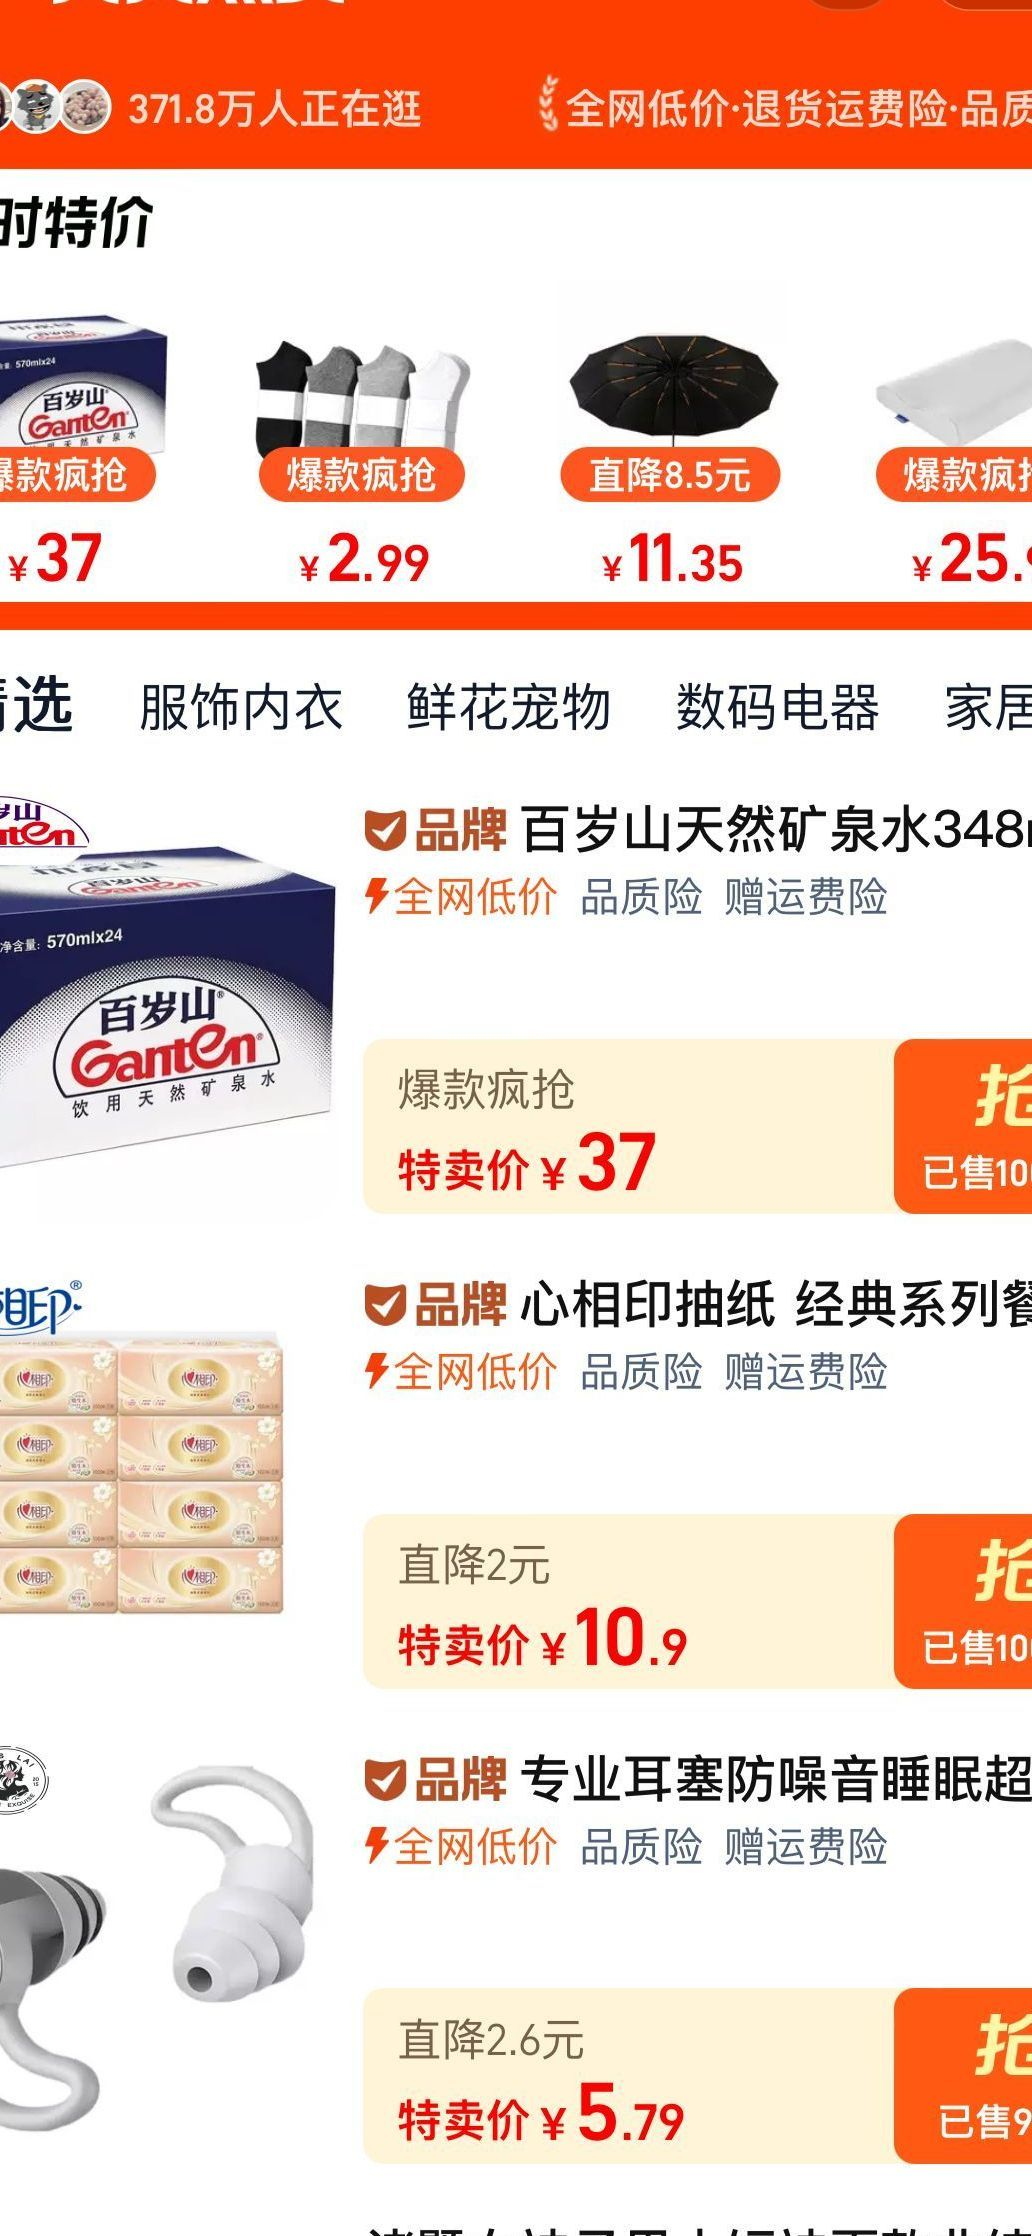item: (1, 761, 1026, 1238), (1, 1251, 1032, 1711), (1, 1738, 1031, 2195)
seckill: (3, 158, 1032, 620)
